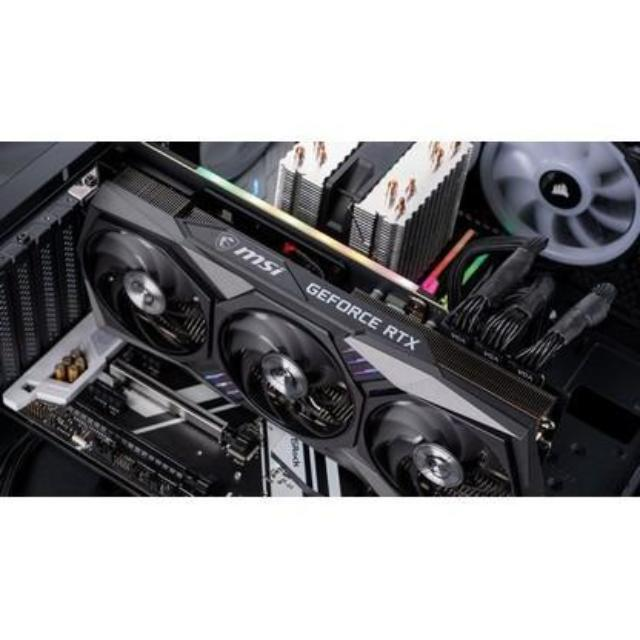CPU_Fan: (276, 100, 464, 268)
GPU: (89, 128, 562, 504)
